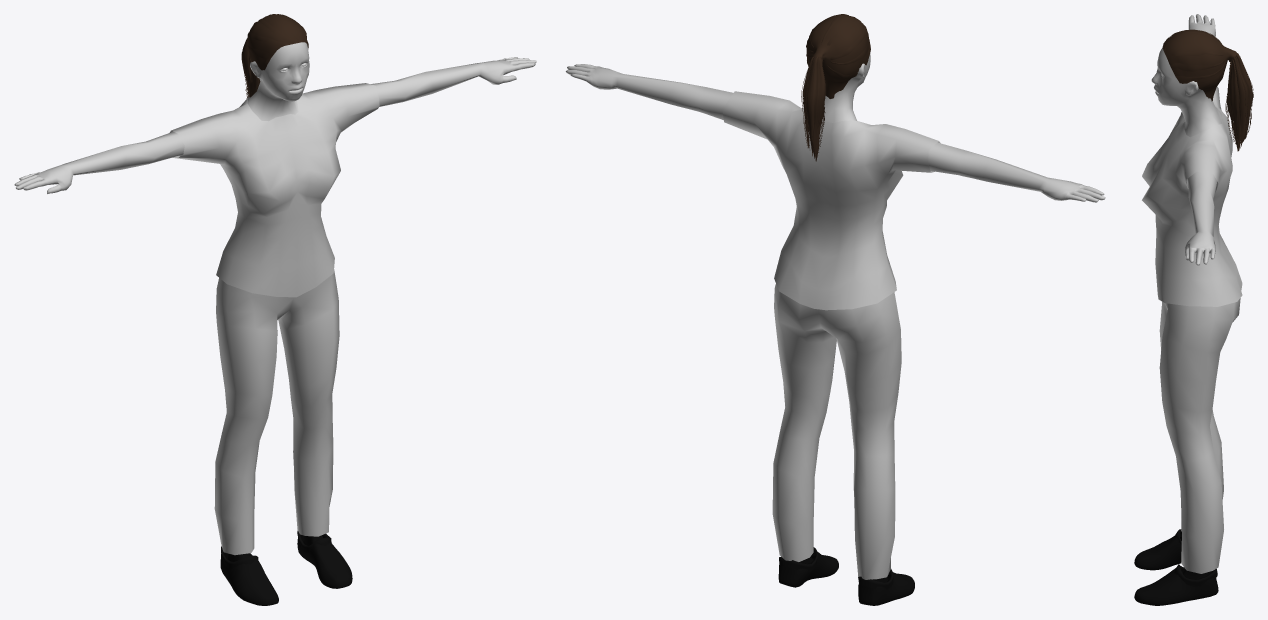
Rendered from kadın 2.obj.
3 views of the same model, side by side, from view 1: azimuth 30°, elevation 25°; view 2: azimuth 150°, elevation 25°; view 3: azimuth 270°, elevation 25° (orthographic). The views are drawn at different scales.
Visible parts, largest first — view 1: KadÄ±n:Male1591.002, KadÄ±n:Male1591.001, KadÄ±n:Male1591, KadÄ±n:Shoes05, KadÄ±n:Ponytail01; view 2: KadÄ±n:Male1591.002, KadÄ±n:Male1591.001, KadÄ±n:Male1591, KadÄ±n:Ponytail01, KadÄ±n:Shoes05; view 3: KadÄ±n:Male1591.002, KadÄ±n:Male1591.001, KadÄ±n:Male1591, KadÄ±n:Ponytail01, KadÄ±n:Shoes05.
Part boxes in pixels (<box>): KadÄ±n:Male1591.002: <box>214,269,339,555</box>; KadÄ±n:Male1591.001: <box>169,83,379,297</box>; KadÄ±n:Male1591: <box>14,42,536,194</box>; KadÄ±n:Shoes05: <box>220,530,352,605</box>; KadÄ±n:Ponytail01: <box>241,14,308,98</box>; KadÄ±n:Male1591.002: <box>772,284,901,579</box>; KadÄ±n:Male1591.001: <box>722,91,940,310</box>; KadÄ±n:Male1591: <box>565,54,1105,202</box>; KadÄ±n:Ponytail01: <box>801,14,870,161</box>; KadÄ±n:Shoes05: <box>778,547,914,605</box>; KadÄ±n:Male1591.002: <box>1159,298,1240,573</box>; KadÄ±n:Male1591.001: <box>1142,86,1242,306</box>; KadÄ±n:Male1591: <box>1151,14,1222,265</box>; KadÄ±n:Ponytail01: <box>1162,29,1253,151</box>; KadÄ±n:Shoes05: <box>1134,529,1218,605</box>.
Size of the model in its own units: 16.07 by 16.52 by 3.24.
